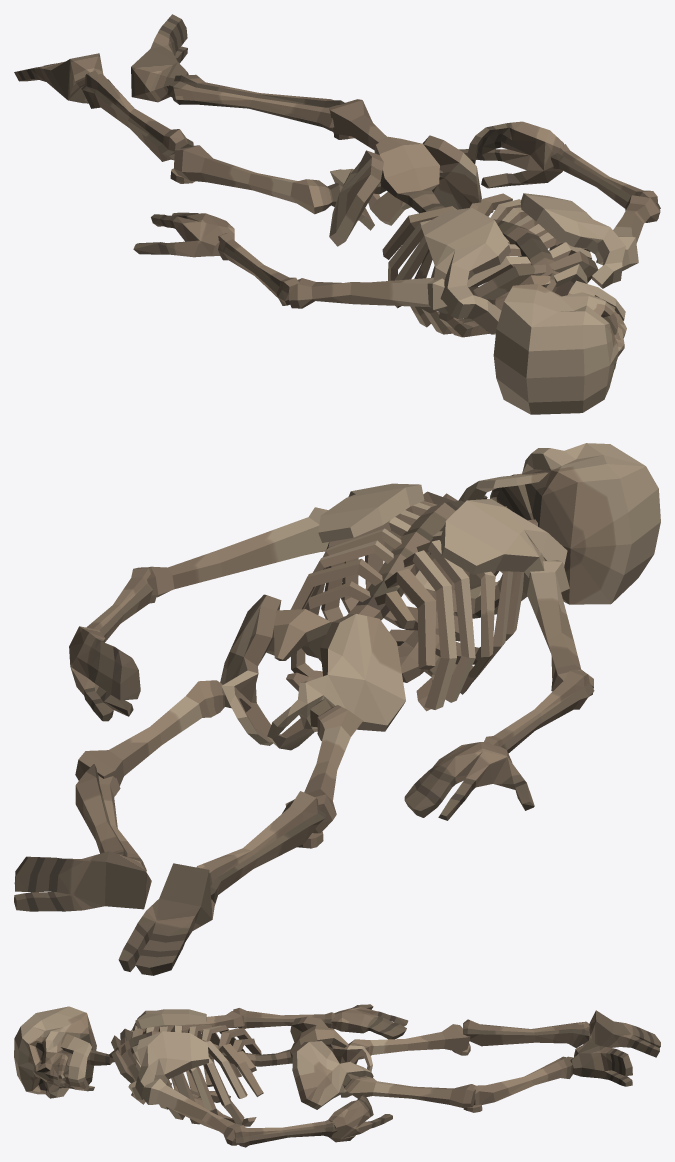
The model's file is crypt_skeleton.gltf.
The picture shows the model from 3 angles, top to bottom: view 1: azimuth 30°, elevation 25°; view 2: azimuth 150°, elevation 25°; view 3: azimuth 270°, elevation 25°; orthographic projection. The views are drawn at different scales.
Visible parts, largest first — view 1: crypt_skeleton; view 2: crypt_skeleton; view 3: crypt_skeleton.
Boxes of the visible parts, x1=… form: crypt_skeleton: x1=14, y1=14, x2=660, y2=414; crypt_skeleton: x1=14, y1=443, x2=660, y2=975; crypt_skeleton: x1=14, y1=1004, x2=660, y2=1147.
Bounding box in the file's own units: 0.9743 × 0.2932 × 1.87.
Materials: 1 (1 with a texture image).
